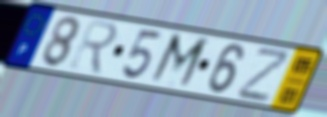5: (120, 27, 164, 81)
6: (206, 43, 246, 95)
8: (41, 15, 82, 70)
M: (146, 31, 213, 93)
R: (66, 17, 120, 78)
Z: (234, 47, 294, 104)
